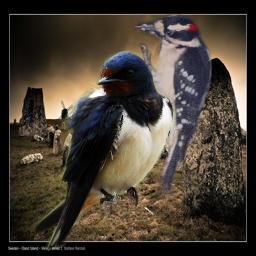Swallow: (30, 50, 176, 255)
Woodpecker: (134, 11, 215, 194)
